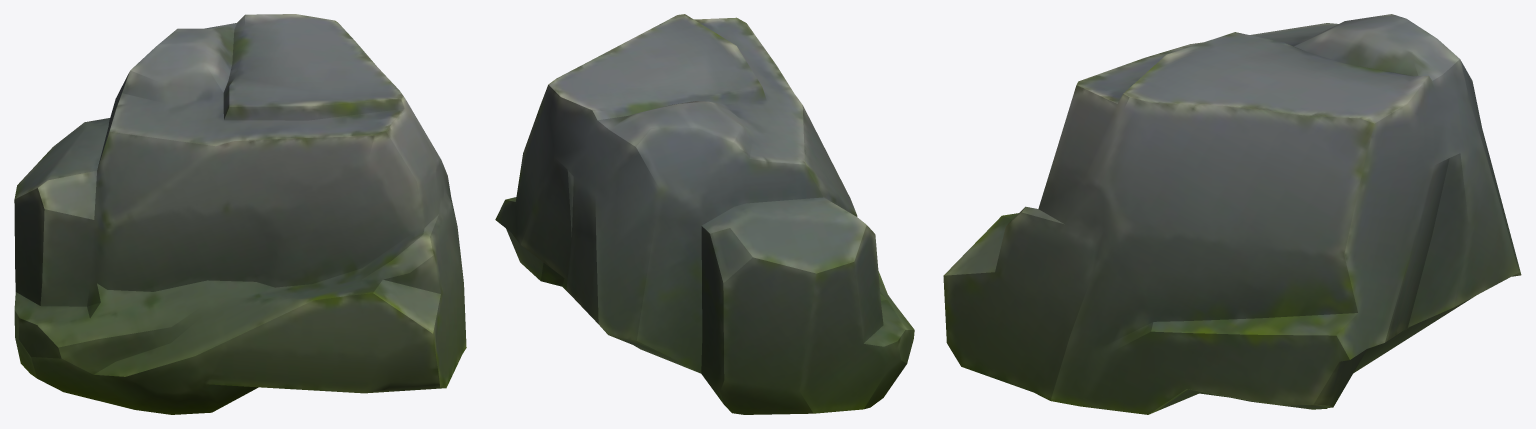
File: Rock_Medium_3.glb
3 views of the same model, side by side, from view 1: azimuth 30°, elevation 25°; view 2: azimuth 150°, elevation 25°; view 3: azimuth 270°, elevation 25° (orthographic). The views are drawn at different scales.
Visible parts, largest first — view 1: Rock_Medium_3; view 2: Rock_Medium_3; view 3: Rock_Medium_3.
Part boxes in pixels (<box>): Rock_Medium_3: <box>14,14,466,414</box>; Rock_Medium_3: <box>495,14,914,414</box>; Rock_Medium_3: <box>943,14,1521,414</box>.
Bounding box in the file's own units: 3.42 × 2.32 × 3.48.
Materials: 1 (1 with a texture image).
